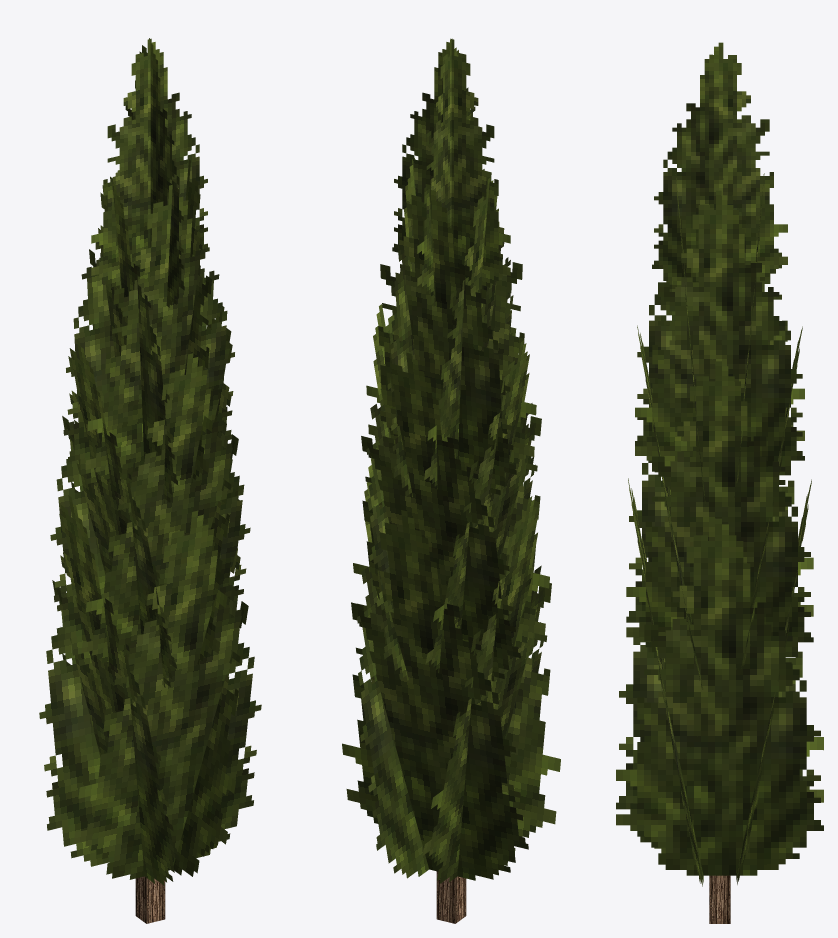
Rendered from cypress_medium.obj.
The picture shows the model from 3 angles, left to right: view 1: azimuth 30°, elevation 25°; view 2: azimuth 150°, elevation 25°; view 3: azimuth 270°, elevation 25°; orthographic projection.
Visible parts, largest first — view 1: Leaves.001, Leaves.005, Leaves.009, Leaves.002, Leaves.012, Leaves.006, Leaves, Leaves.003, Leaves.010, Leaves.008, Leaves.013, Leaves.004 (+3 smaller); view 2: Leaves, Leaves.004, Leaves.008, Leaves.012, Leaves.002, Leaves.003, Leaves.006, Leaves.001, Leaves.010, Leaves.013, Leaves.007, Leaves.009 (+3 smaller); view 3: Leaves.003, Leaves.007, Leaves.011, Leaves.013, Leaves.002, Leaves.006, Leaves.010, Leaves.001, Leaves, Leaves.005, Trunk, Leaves.004 (+1 smaller).
Part boxes in pixels (box(x1,y1,x2,y2)): Leaves.001: box(73, 510, 261, 879); Leaves.005: box(81, 353, 250, 674); Leaves.009: box(85, 185, 234, 500); Leaves.002: box(52, 495, 179, 885); Leaves.012: box(91, 38, 209, 288); Leaves.006: box(62, 339, 176, 687); Leaves: box(39, 587, 114, 866); Leaves.003: box(173, 459, 248, 876); Leaves.010: box(89, 176, 178, 503); Leaves.008: box(66, 170, 119, 486); Leaves.013: box(125, 38, 184, 307); Leaves.004: box(50, 421, 133, 669); Leaves: box(342, 510, 528, 880); Leaves.004: box(353, 352, 520, 681); Leaves.008: box(366, 184, 516, 497); Leaves.012: box(392, 38, 510, 298); Leaves.002: box(422, 496, 543, 884); Leaves.003: box(357, 458, 429, 878); Leaves.006: box(425, 340, 535, 672); Leaves.001: box(501, 483, 560, 865); Leaves.010: box(424, 177, 513, 489); Leaves.013: box(417, 38, 484, 306); Leaves.007: box(366, 304, 408, 680); Leaves.009: box(482, 170, 536, 464); Leaves.003: box(616, 518, 823, 875); Leaves.007: box(626, 361, 813, 669); Leaves.011: box(635, 190, 804, 489); Leaves.013: box(652, 42, 787, 288); Leaves.002: box(616, 637, 823, 853); Leaves.006: box(626, 460, 813, 652); Leaves.010: box(635, 252, 804, 472); Leaves.001: box(628, 478, 703, 886); Leaves: box(736, 479, 811, 884); Leaves.005: box(637, 325, 703, 689); Trunk: box(709, 875, 730, 923); Leaves.004: box(740, 326, 802, 673).
Bounding box in the file's own units: 1.16 × 5.41 × 1.16.
